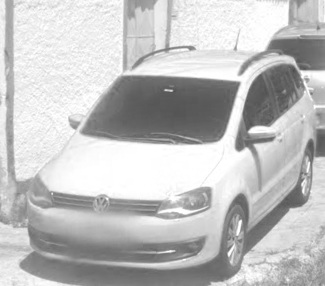car: (26, 48, 318, 273)
